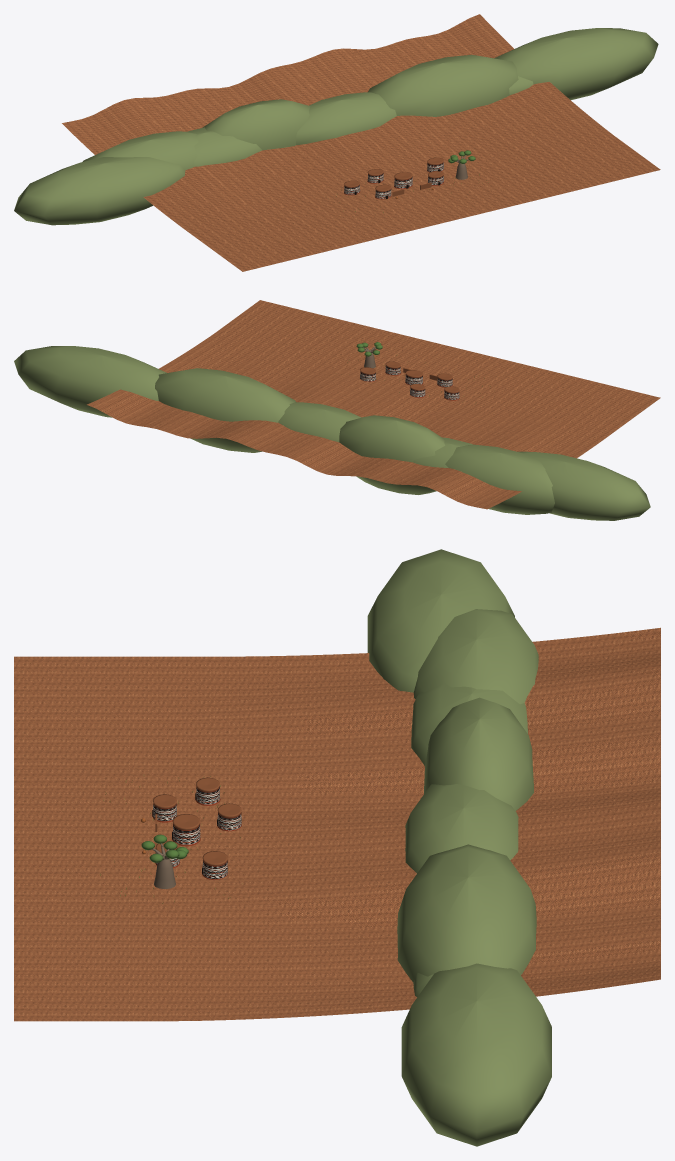
Rendered from village-kassena.glb.
The picture shows the model from 3 angles, top to bottom: view 1: azimuth 30°, elevation 25°; view 2: azimuth 150°, elevation 25°; view 3: azimuth 270°, elevation 25°; orthographic projection. The views are drawn at different scales.
Parts seen in each view (by area): view 1: sol, decor; view 2: sol, decor; view 3: sol, decor.
Boxes of the visible parts, x1,y1,x2,y2 form: sol: [62, 14, 660, 271]; decor: [14, 28, 658, 225]; sol: [87, 300, 660, 509]; decor: [14, 342, 650, 520]; sol: [14, 627, 660, 1021]; decor: [100, 549, 551, 1146].
Bounding box in the file's own units: 188 × 19.8 × 90.
Materials: 9 (2 with a texture image).
